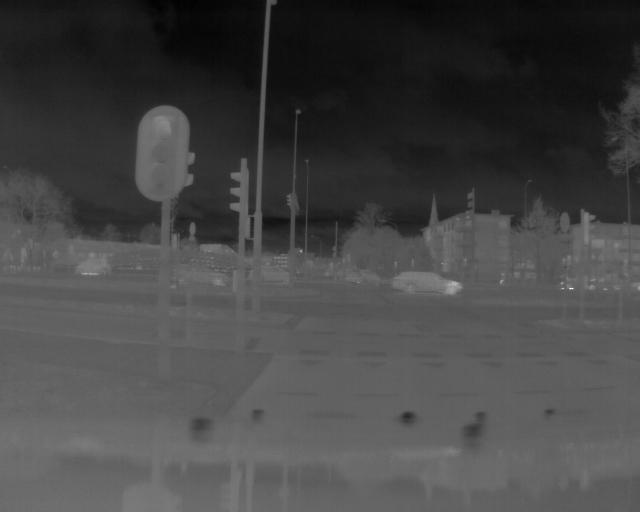car: (390, 269, 464, 297)
